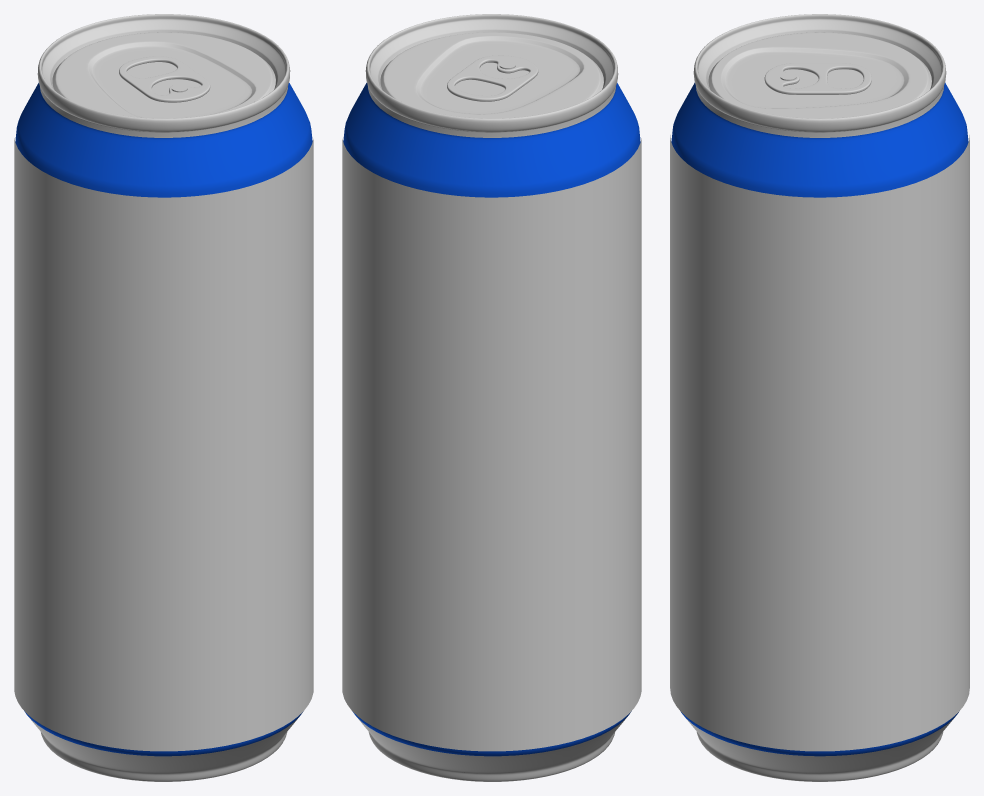
The model's file is SodaCan.glb.
The picture shows the model from 3 angles, left to right: view 1: azimuth 30°, elevation 25°; view 2: azimuth 150°, elevation 25°; view 3: azimuth 270°, elevation 25°; orthographic projection.
Parts seen in each view (by area): view 1: AlphaWrap, Can, Tab; view 2: AlphaWrap, Can, Tab; view 3: AlphaWrap, Can, Tab.
Part boxes in pixels (<box>): AlphaWrap: <box>14,138,313,751</box>; Can: <box>15,14,312,781</box>; Tab: <box>119,56,210,102</box>; AlphaWrap: <box>342,138,641,751</box>; Can: <box>343,14,640,781</box>; Tab: <box>447,55,538,101</box>; AlphaWrap: <box>670,135,969,751</box>; Can: <box>671,14,968,781</box>; Tab: <box>764,63,871,94</box>.
Bounding box in the file's own units: 1.95 × 4.77 × 1.95.
